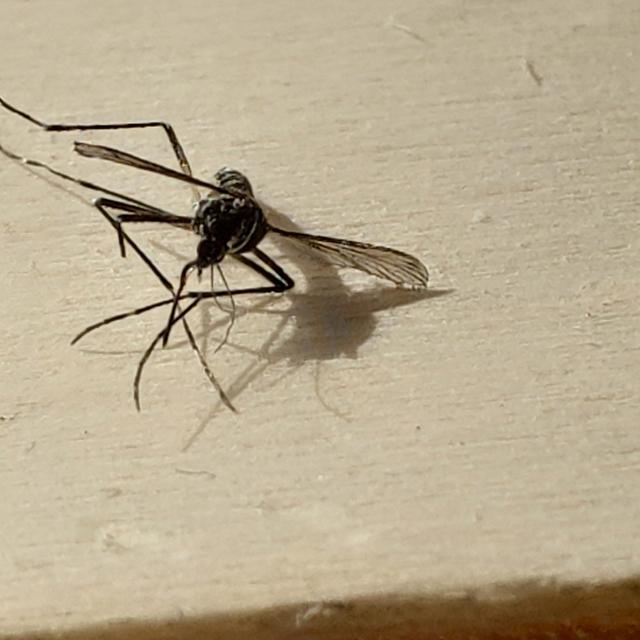albopictus: (0, 57, 422, 439)
